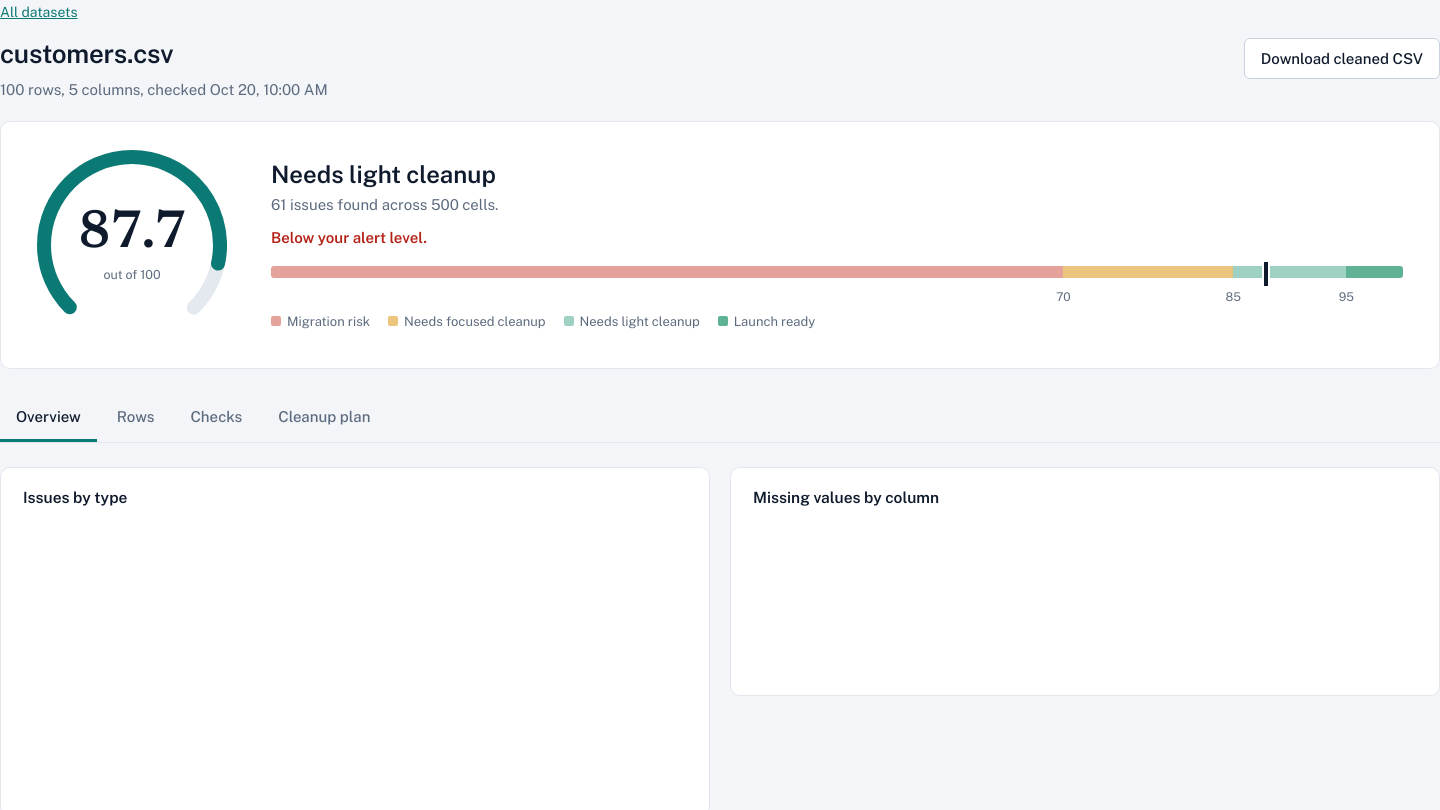
Scenario: report page › walks through every tab without crashing
Expected: the text "87.7" is shown, [78,207,186,261]
Click the tab "Rows" at coordinates (136, 419), box [101,395,170,442]
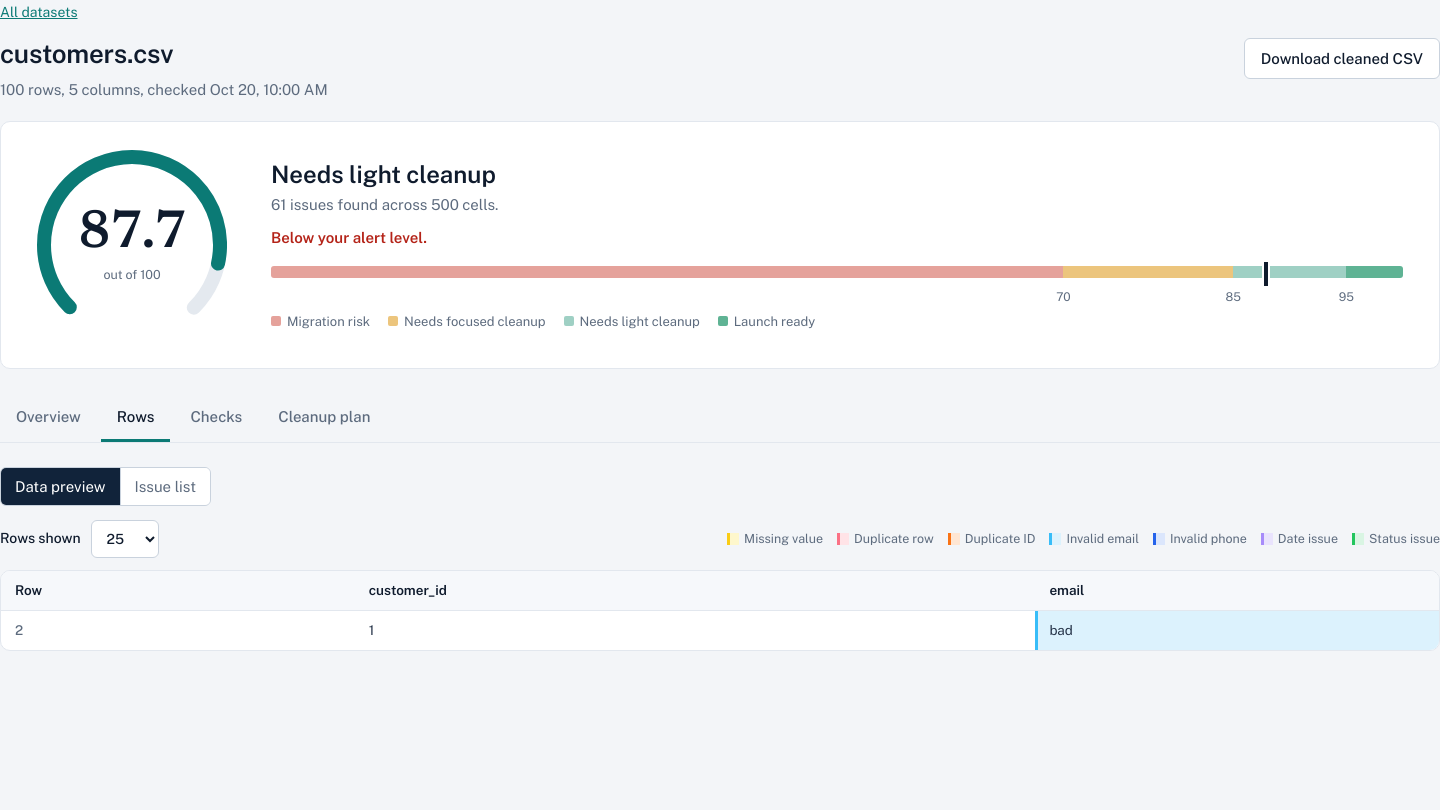
Expected: the text "bad" is shown, [1035,610,1439,650]
Click the tab "Issue list" at coordinates (165, 486), box [120,468,210,505]
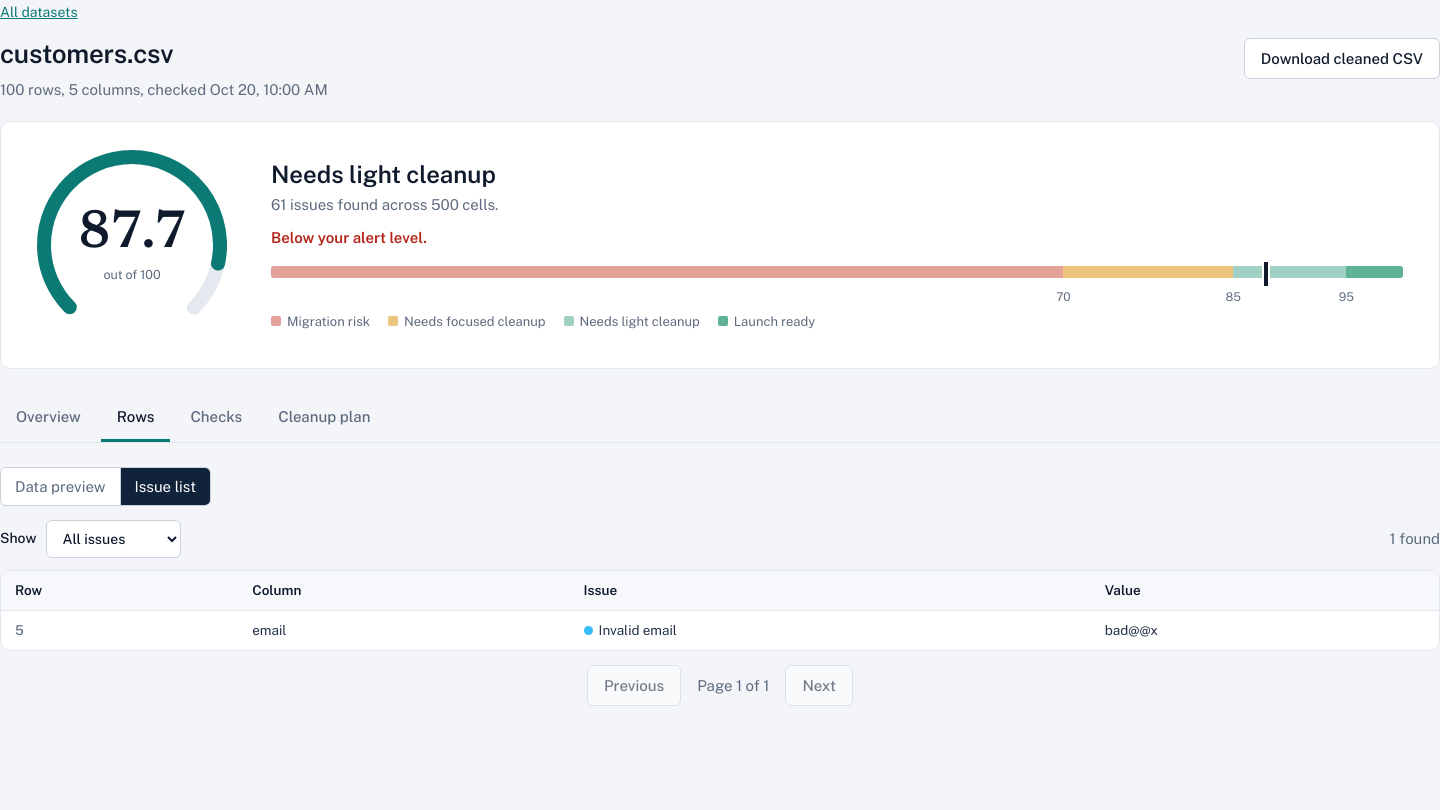
Expected: the text "bad@@x" is shown, [1091,610,1439,650]
Click the tab "Checks" at coordinates (216, 419), box [174,395,258,442]
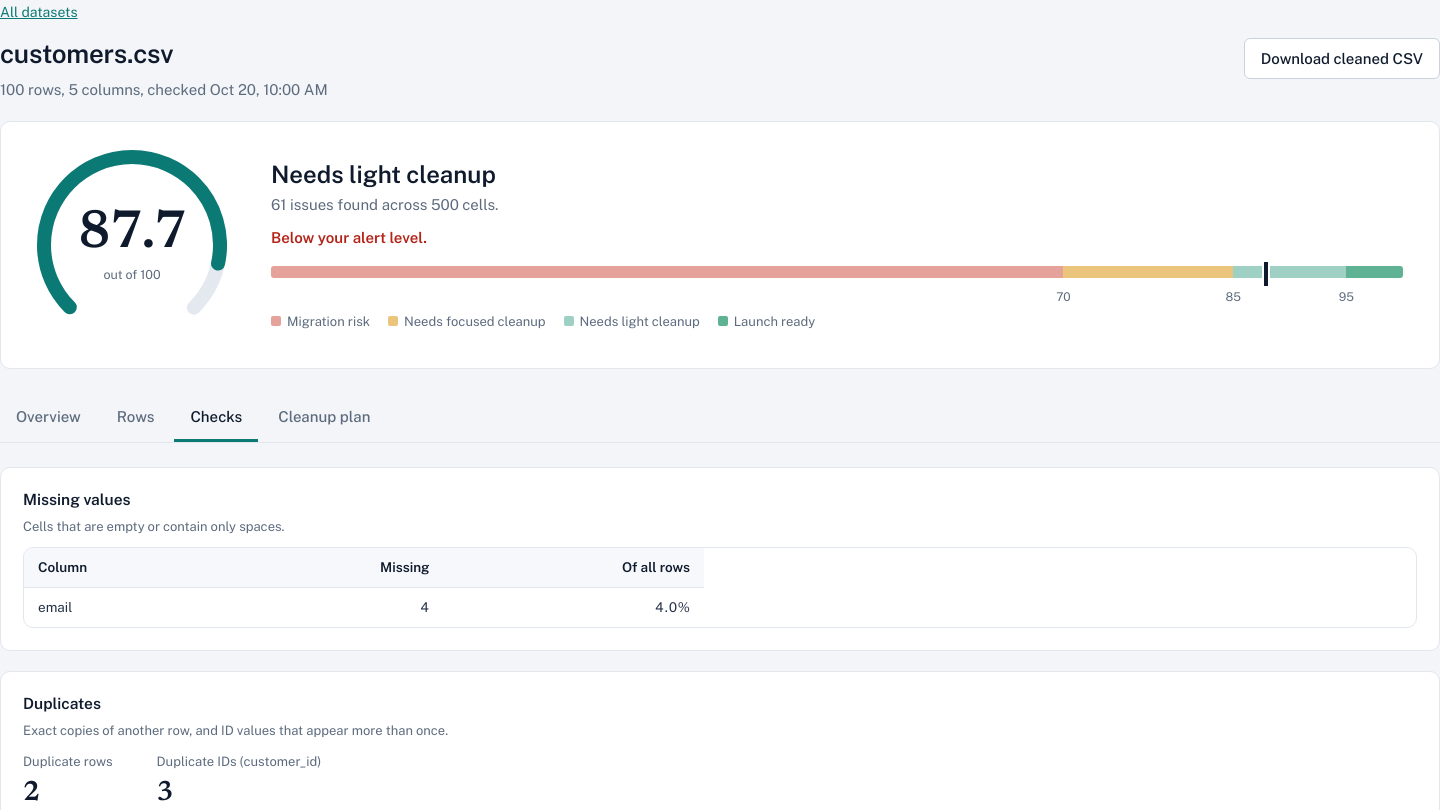
Expected: the heading "Missing values" is shown, [23,490,130,508]
Click the tab "Cleanup plan" at coordinates (324, 419), box [262,395,386,442]
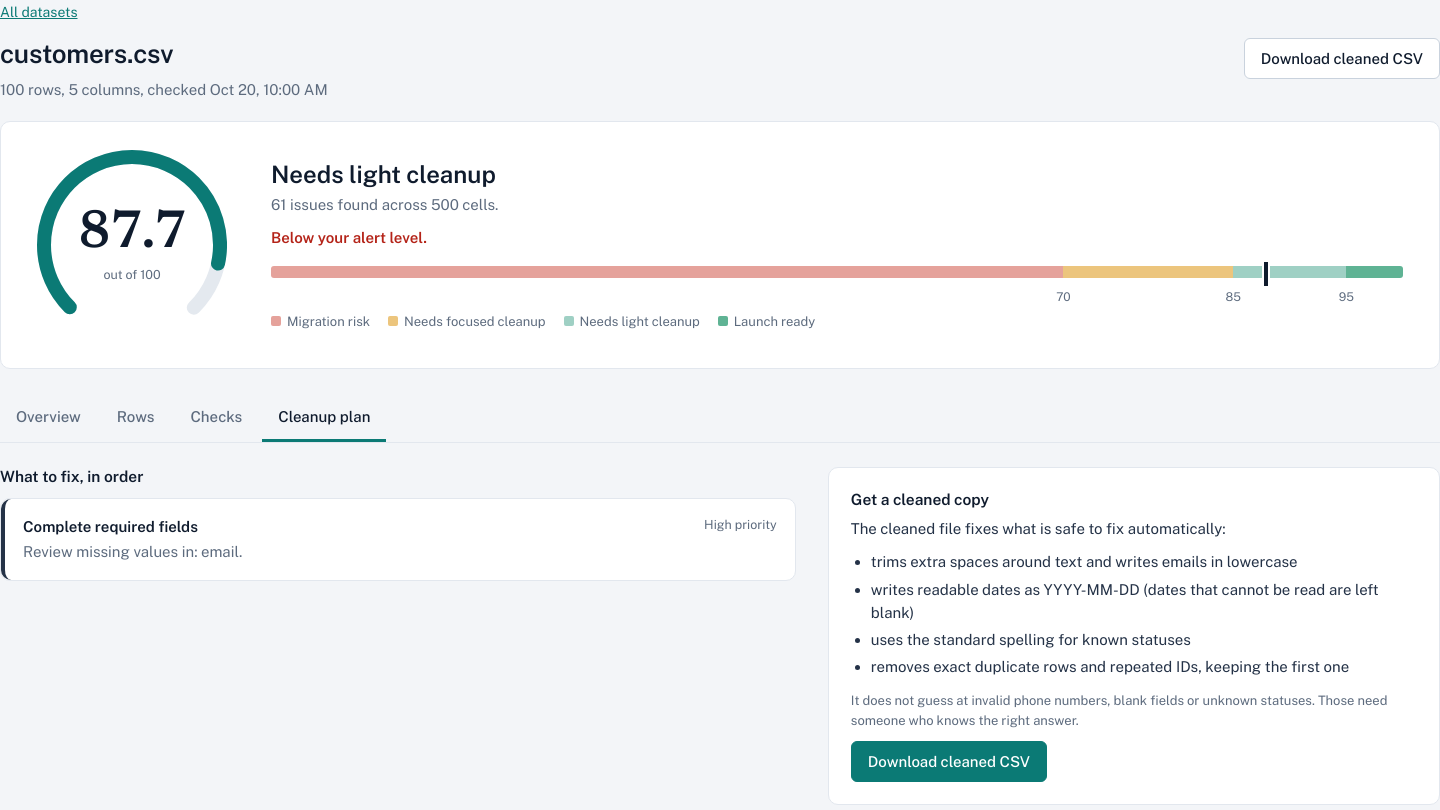
Expected: the text "Complete required fields" is shown, [23,518,198,535]
Expected: the number of buttons "Download cleaned CSV" is 2, [1244,38,1439,79]; [851,741,1047,782]
